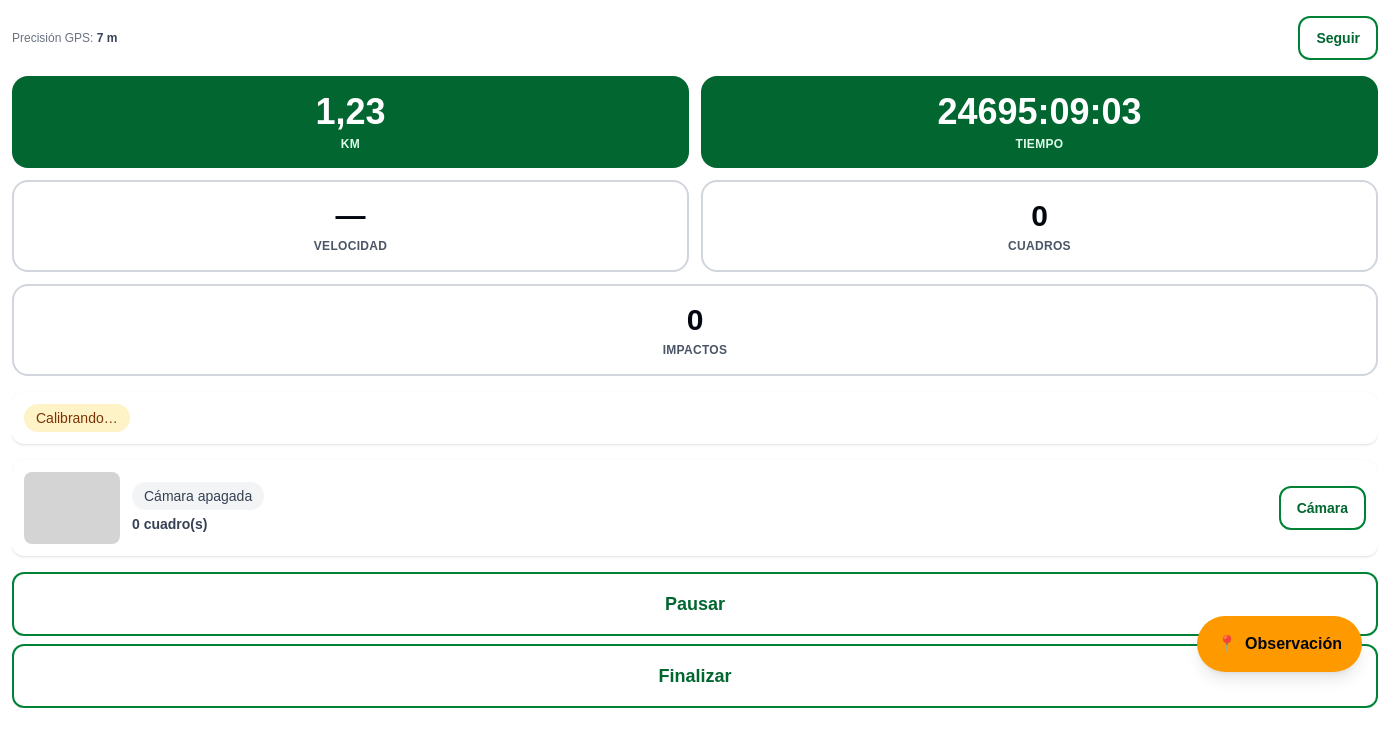
Test: RecorridoView › finalizar cierra el recorrido y muestra el estado pendiente cuando no hay conexión
Click the button "Finalizar": (695, 676) [12, 644, 1378, 708]
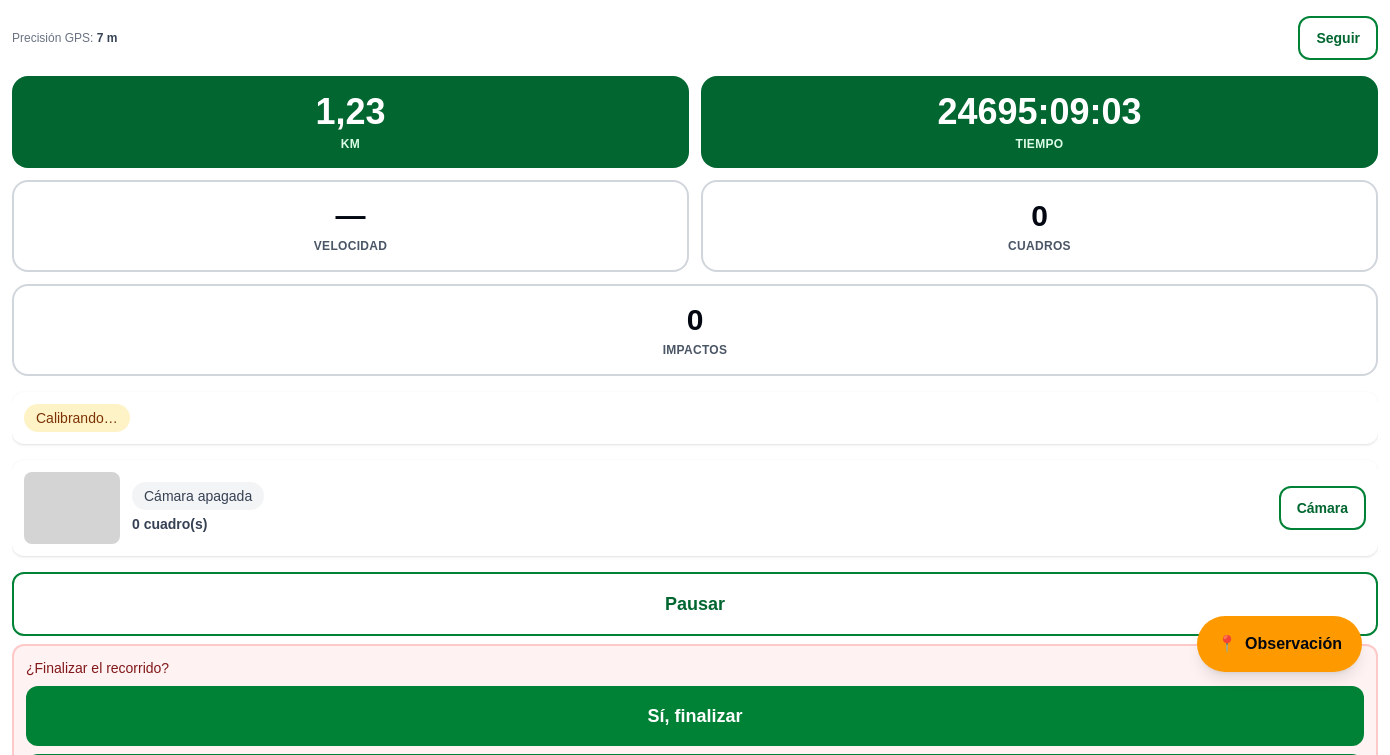
Click the button "Sí, finalizar": (695, 716) [26, 686, 1364, 746]
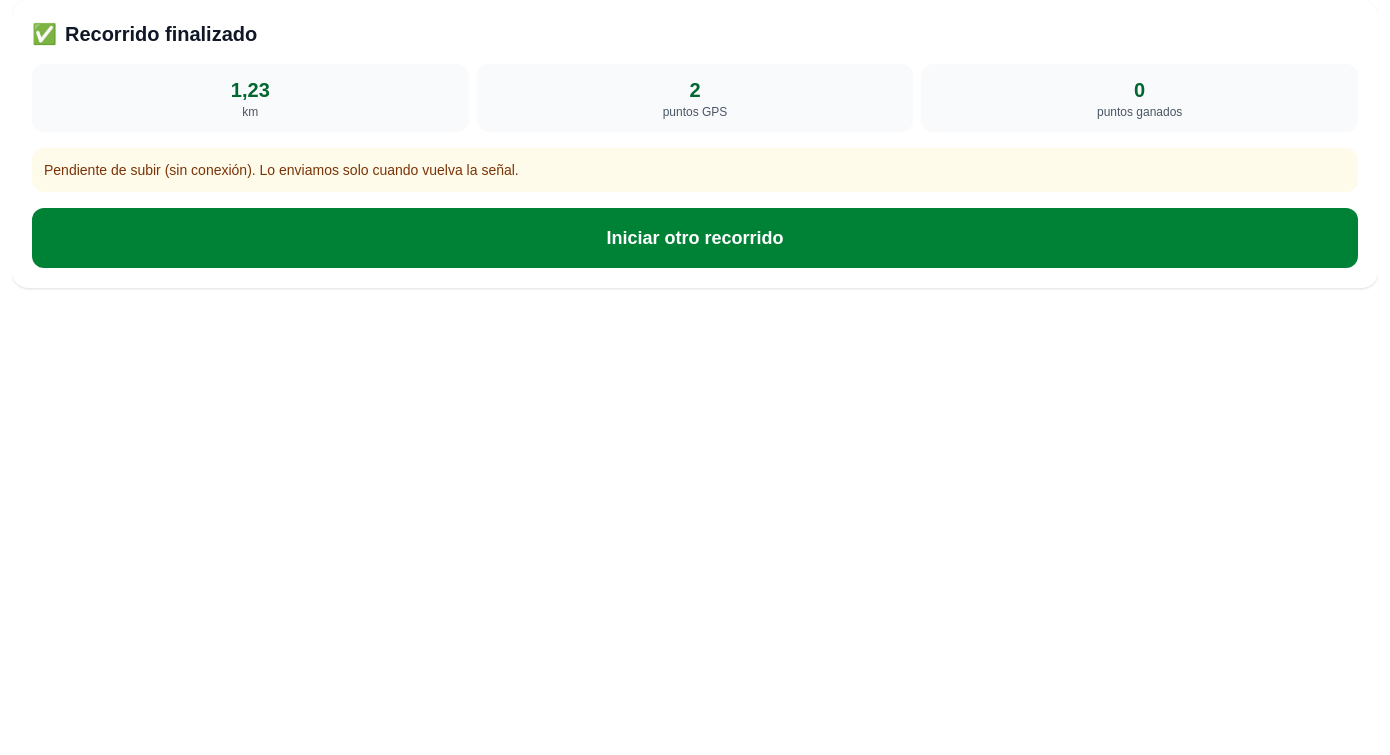
expect the heading "✅ Recorrido finalizado" is shown: met, box [32, 23, 257, 45]
expect the message shows "Pendiente de subir (sin conexión)": met, box [44, 162, 519, 178]
